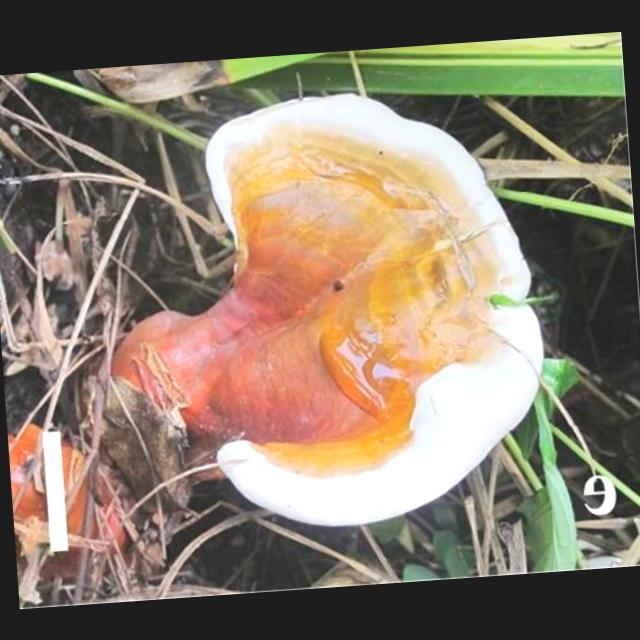ganoderma: (186, 77, 556, 540)
